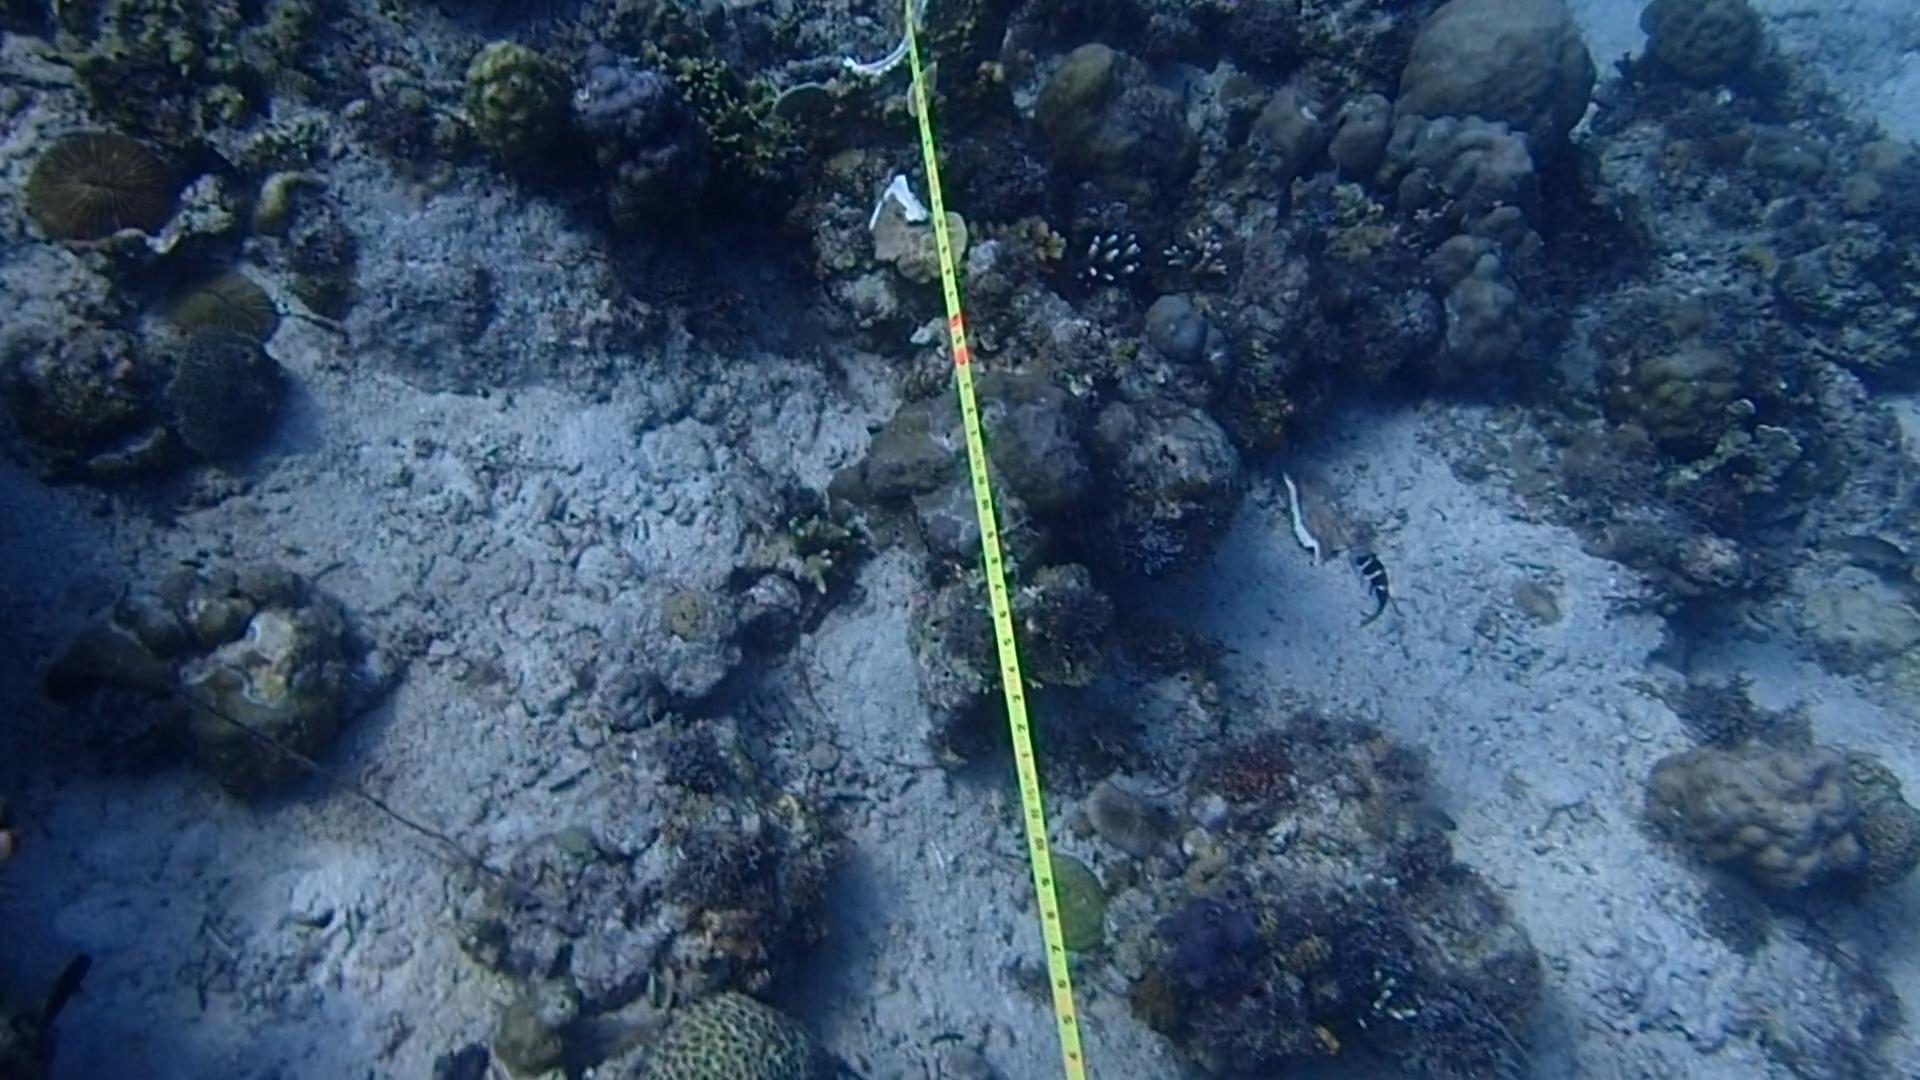Striped Fish: (1338, 535, 1402, 620)
